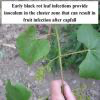grape leaf black rot: (15, 25, 52, 67)
